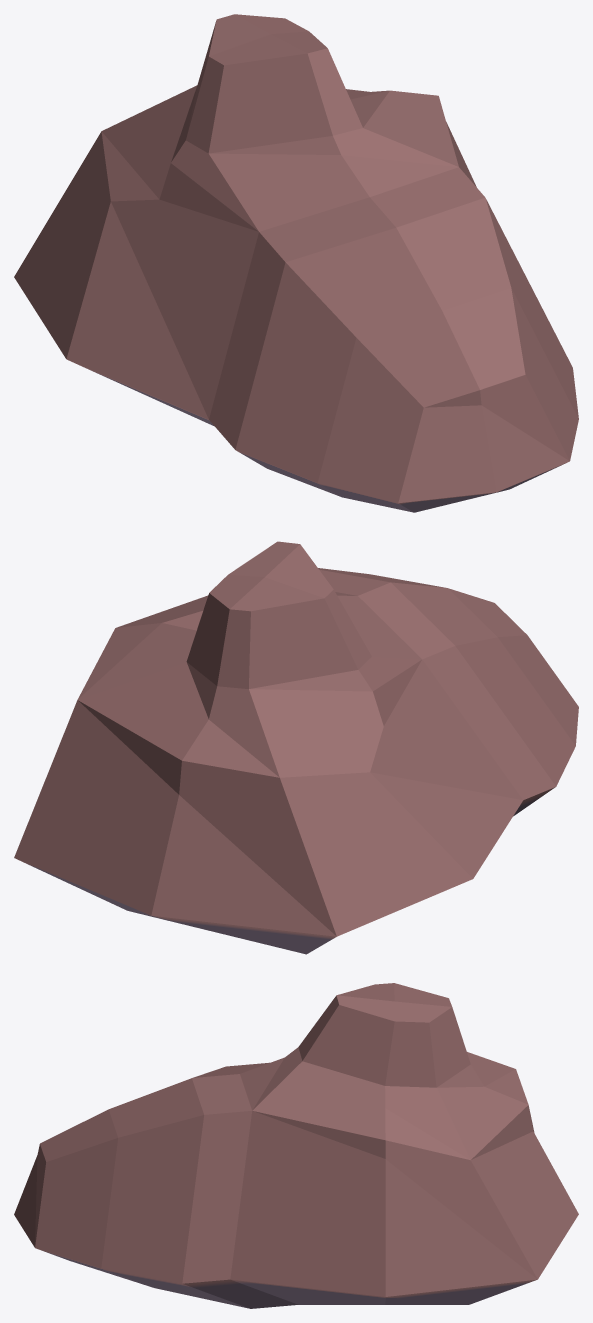
Rendered from Roca4.fbx.
3 views of the same model, one above another, from view 1: azimuth 30°, elevation 25°; view 2: azimuth 150°, elevation 25°; view 3: azimuth 270°, elevation 25° (orthographic). The views are drawn at different scales.
Visible parts, largest first — view 1: Cube; view 2: Cube; view 3: Cube.
Part boxes in pixels (box(x1,y1,x2,y2)): Cube: box(14, 14, 578, 512); Cube: box(14, 541, 578, 954); Cube: box(14, 983, 578, 1308).
Size of the model in its own units: 457 by 360 by 662.
Materials: 1 (1 with a texture image).
